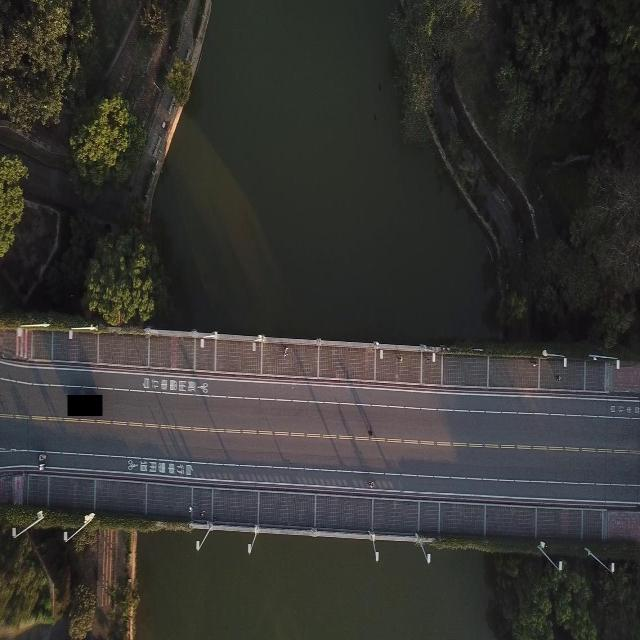bike: (366, 481, 376, 488)
